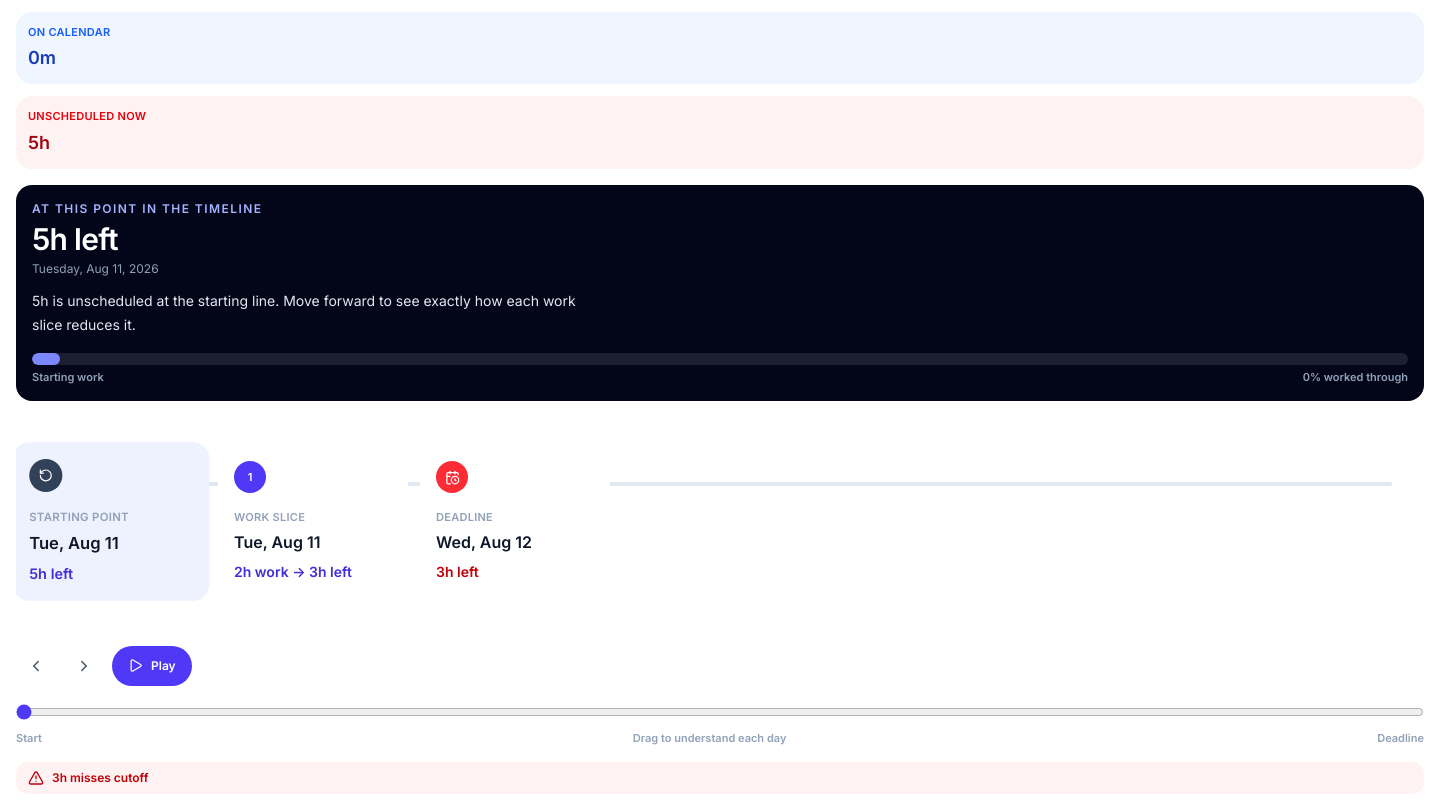
InteractiveTaskTimeline › lets the user scrub through a task and see remaining time change
(page scrolled)
Expected: the text "5h left" below "At this point in the timeline" is shown, [32, 220, 118, 256]
Set the slider to "1" at (720, 712), box [16, 704, 1424, 720]
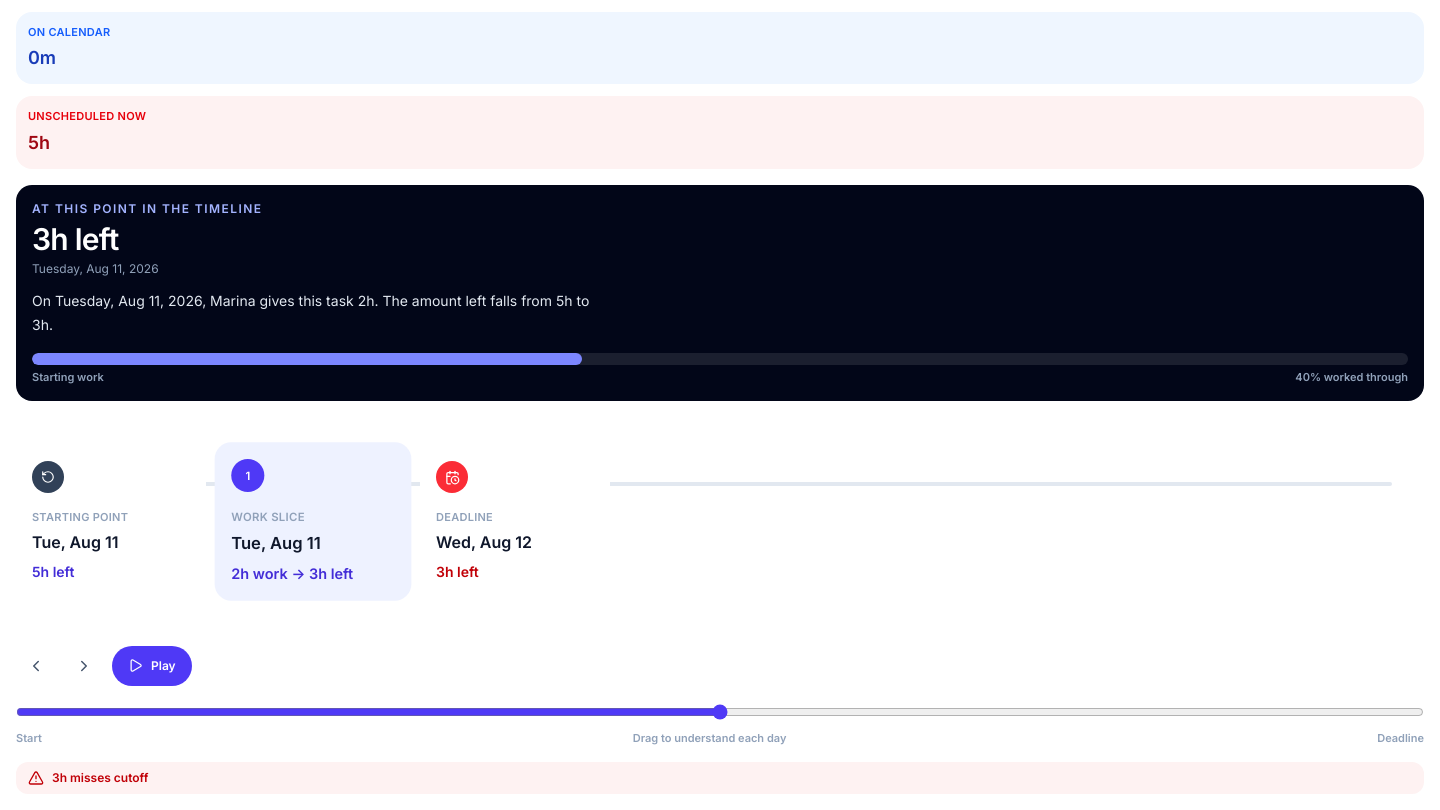
Expected: the text "3h left" below "At this point in the timeline" is shown, [32, 220, 118, 256]
Expected: the text "falls from 5h to 3h" is shown, [32, 292, 589, 332]
